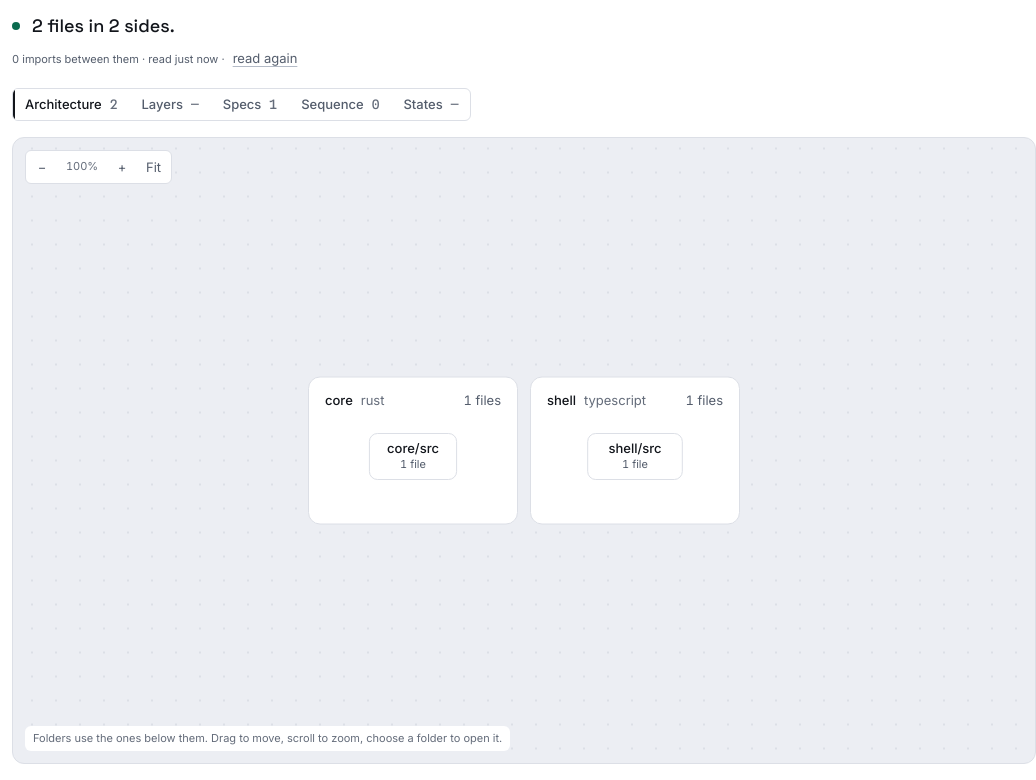
Test case: the architecture › opens on the drawing, and keeps the decision tabs for when something is decided
Expected: the text "2 files in 2 sides." is shown, [32,14,175,37]
Click the button "Specs 1".
click(250, 104)  # box [211,89,289,120]
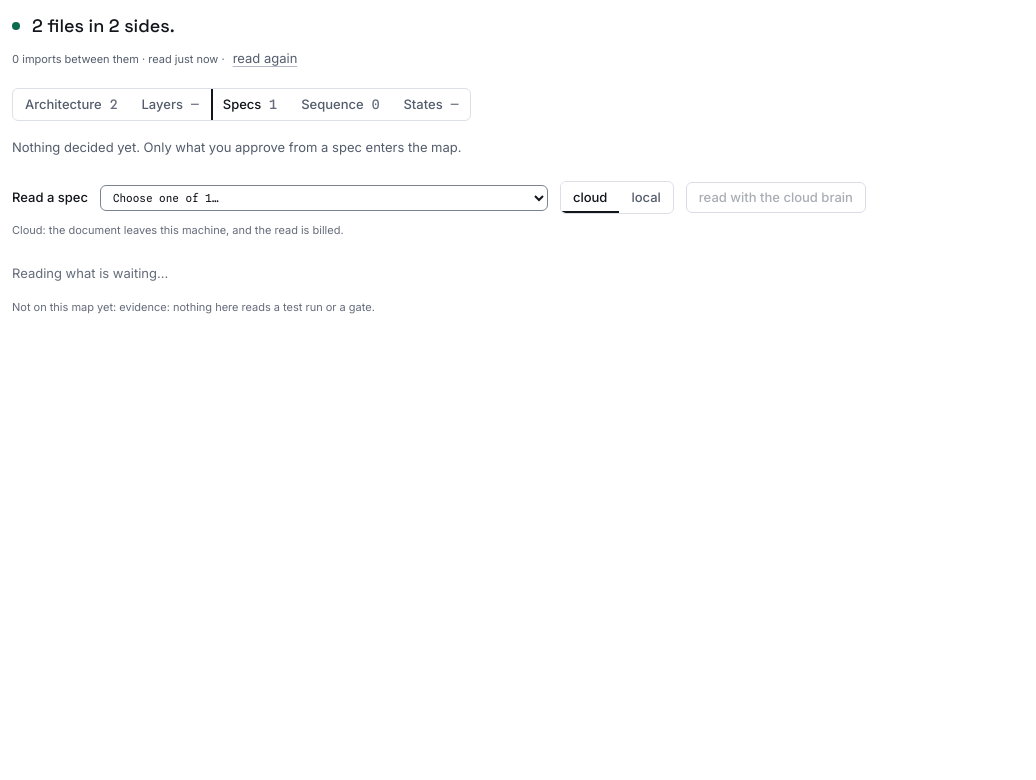
Expected: the text "Nothing decided yet" is shown, [12,139,462,155]
Click the button "Architecture 2".
click(71, 104)  # box [13,89,130,120]
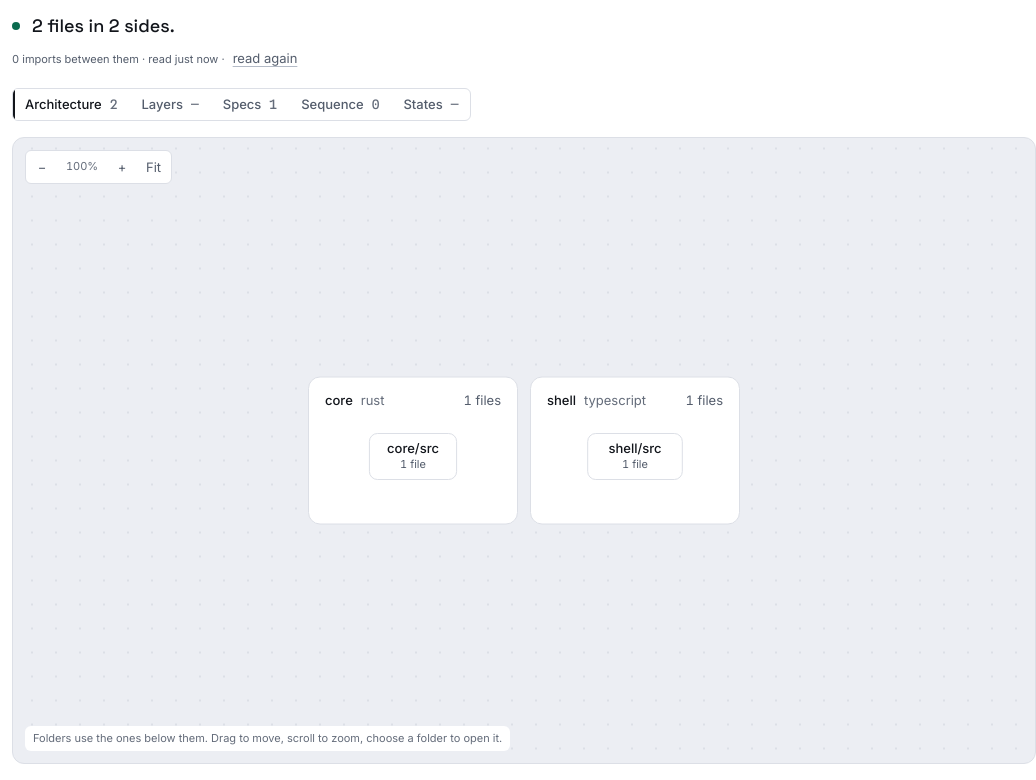
Expected: the text "Nothing decided yet" is gone
